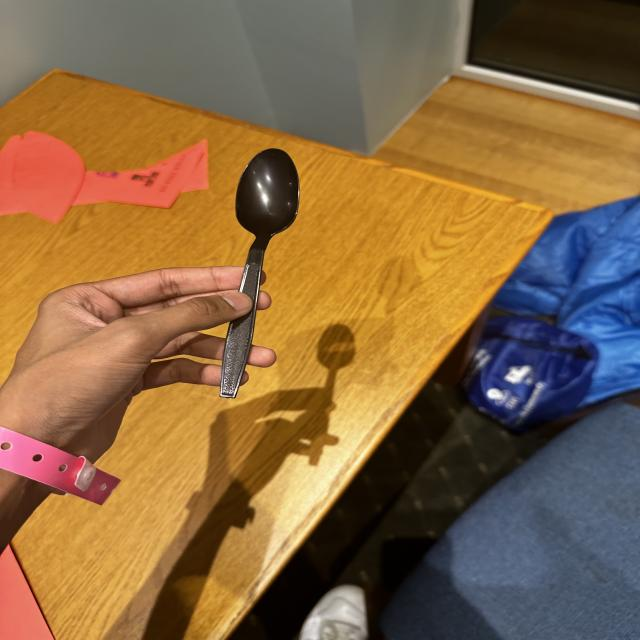spoon: (180, 122, 324, 412)
